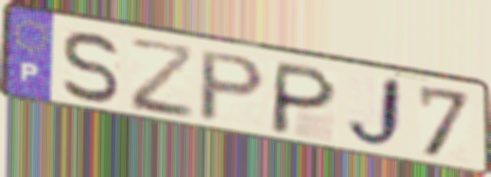7: (416, 82, 475, 162)
J: (342, 74, 406, 153)
P: (266, 59, 341, 139), (196, 48, 270, 125)
S: (60, 30, 123, 107)
Z: (126, 35, 197, 122)
